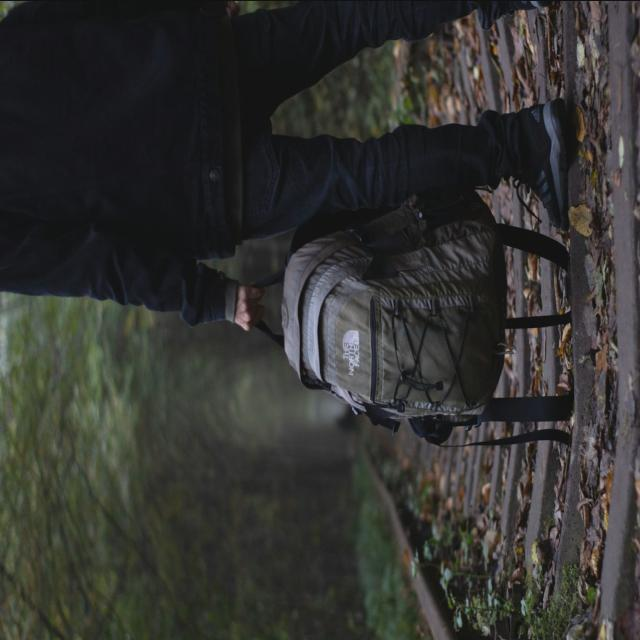backpack: (253, 189, 509, 442)
